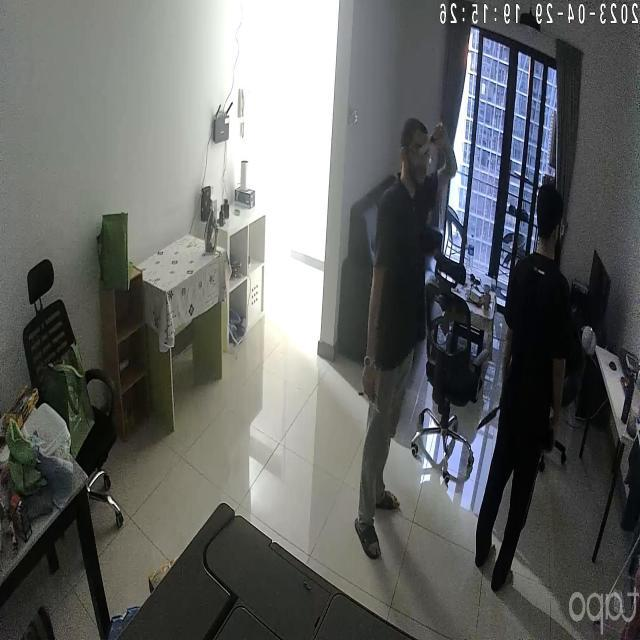Knife: (415, 118, 454, 159), (473, 398, 506, 438)
